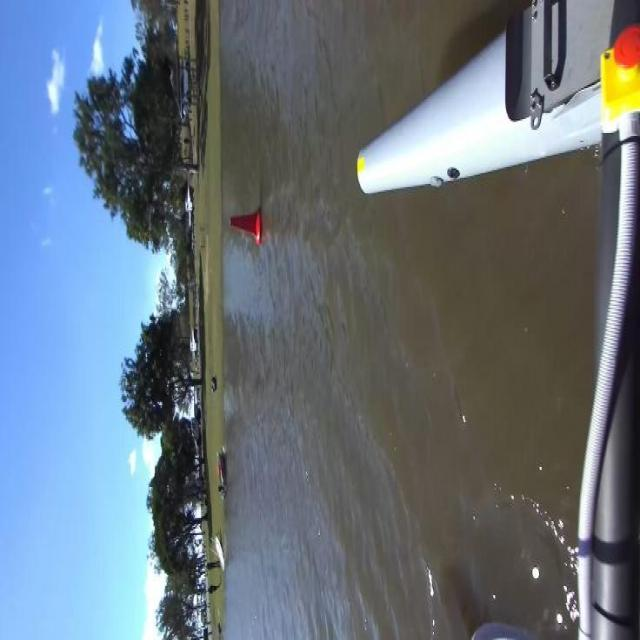Red_Buoy: (217, 210, 273, 247), (223, 216, 275, 241)
